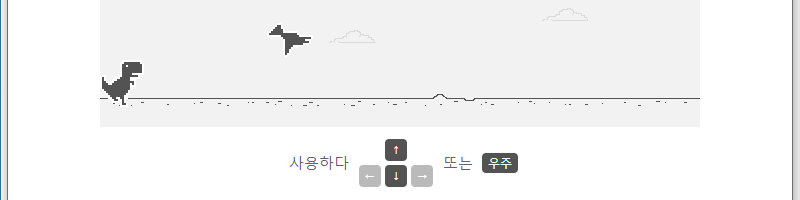dinosaur: (101, 60, 143, 106)
obstacle: (264, 21, 315, 55)
